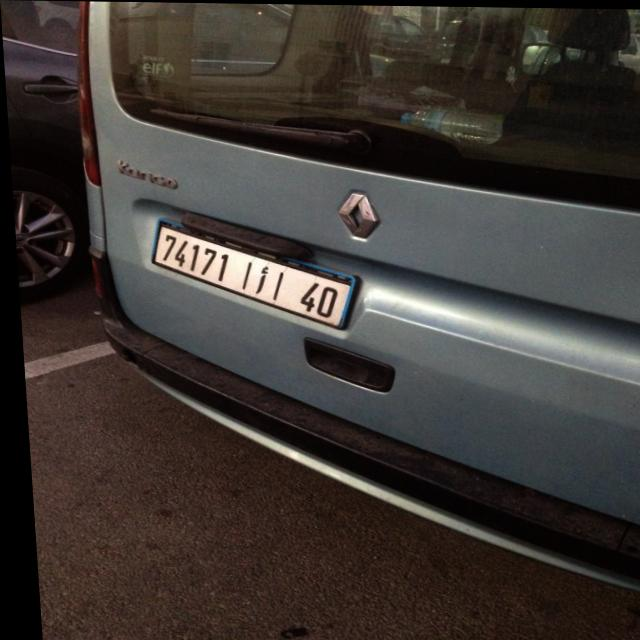License-Plate: (151, 227, 347, 326)
